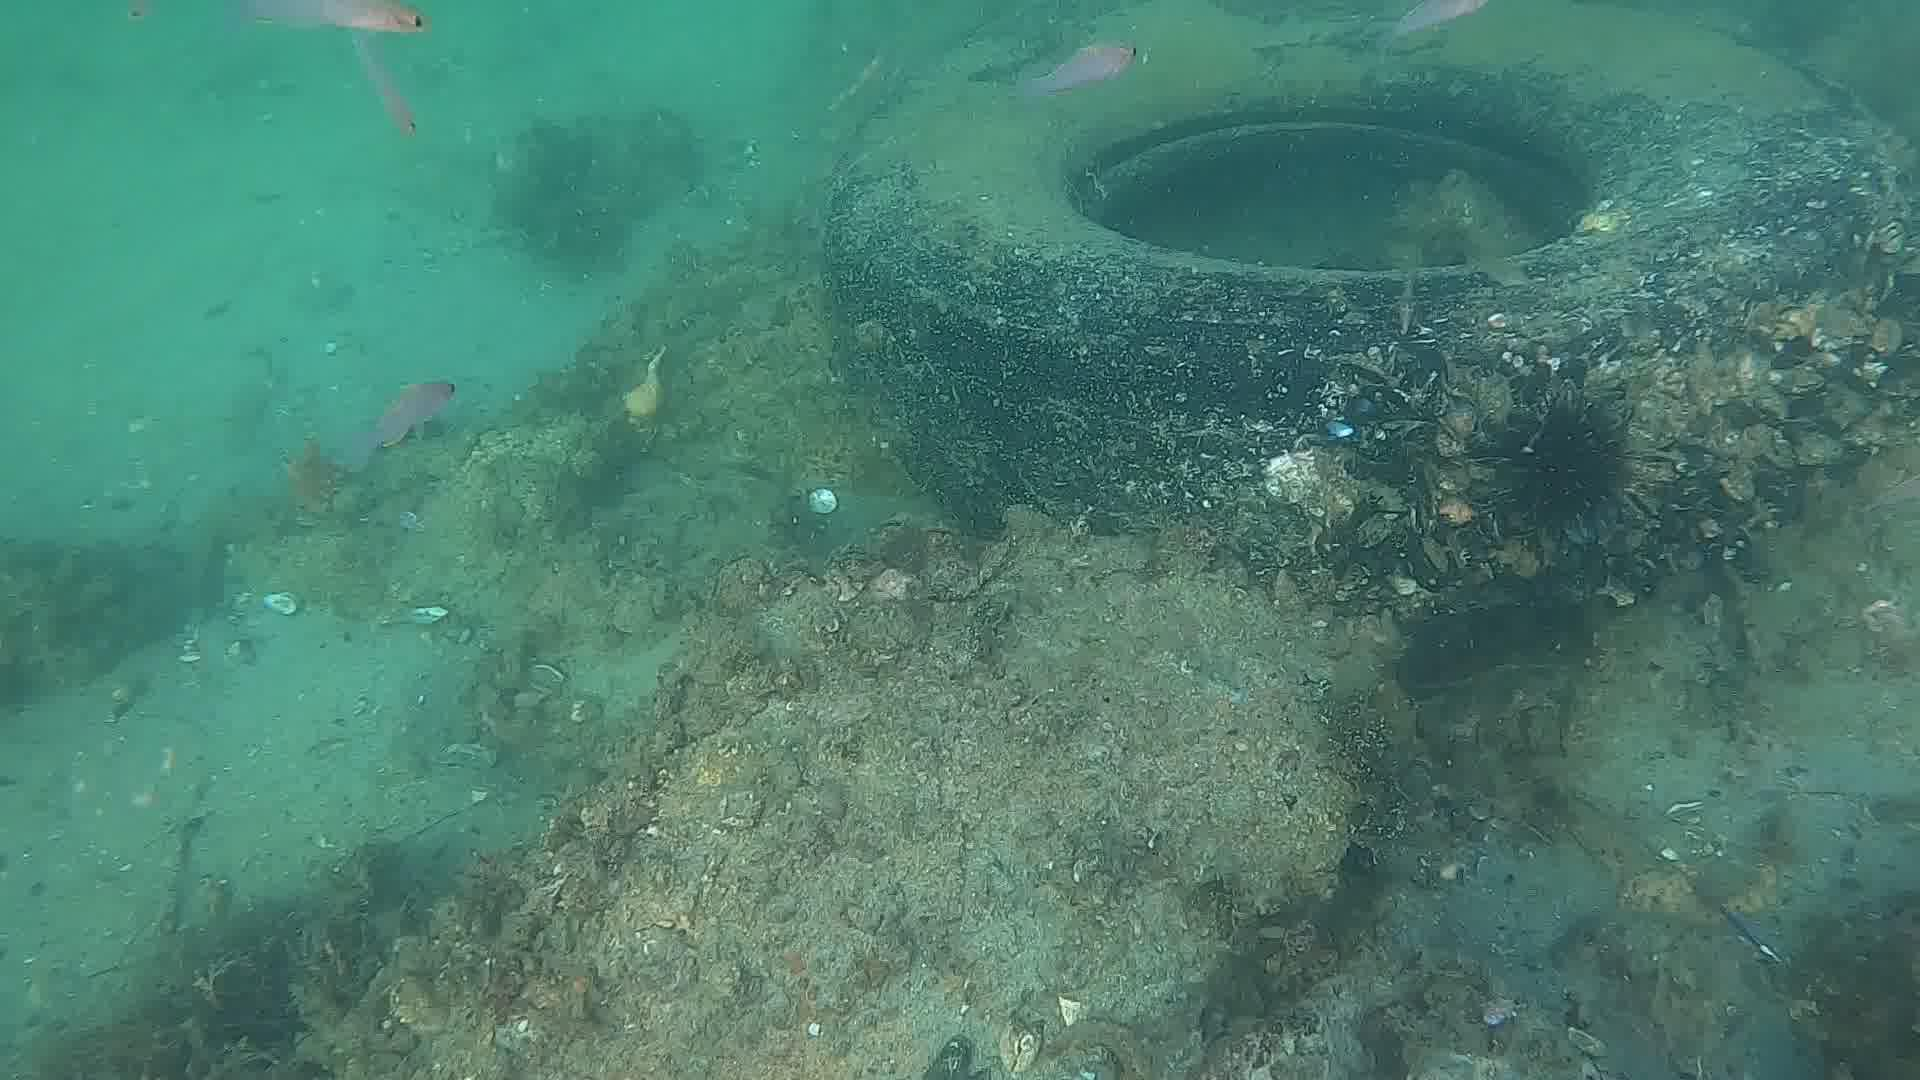tire: (825, 7, 1900, 604)
